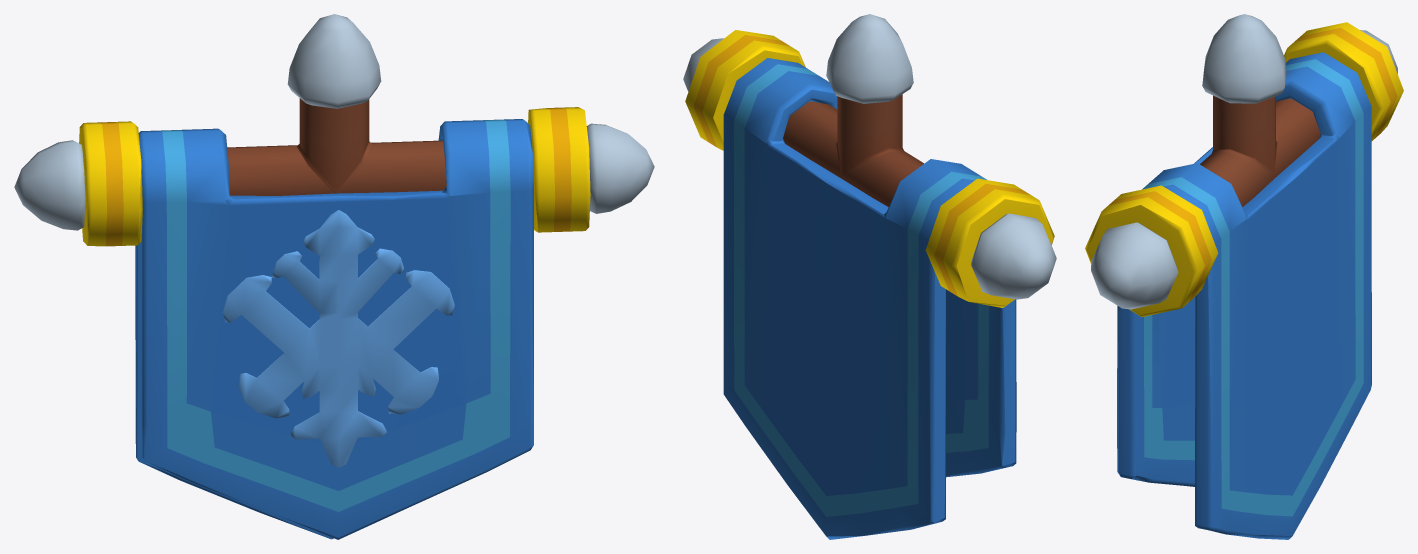
3 views of the same model, side by side, from view 1: azimuth 30°, elevation 25°; view 2: azimuth 150°, elevation 25°; view 3: azimuth 270°, elevation 25° (orthographic). The views are drawn at different scales.
Parts seen in each view (by area): view 1: model_1.044; view 2: model_1.044; view 3: model_1.044.
Part boxes in pixels (x1=…): model_1.044: x1=14, y1=14, x2=654, y2=539; model_1.044: x1=683, y1=14, x2=1056, y2=539; model_1.044: x1=1085, y1=14, x2=1403, y2=539.
Size of the model in its own units: 4.94 by 5.08 by 2.84.
